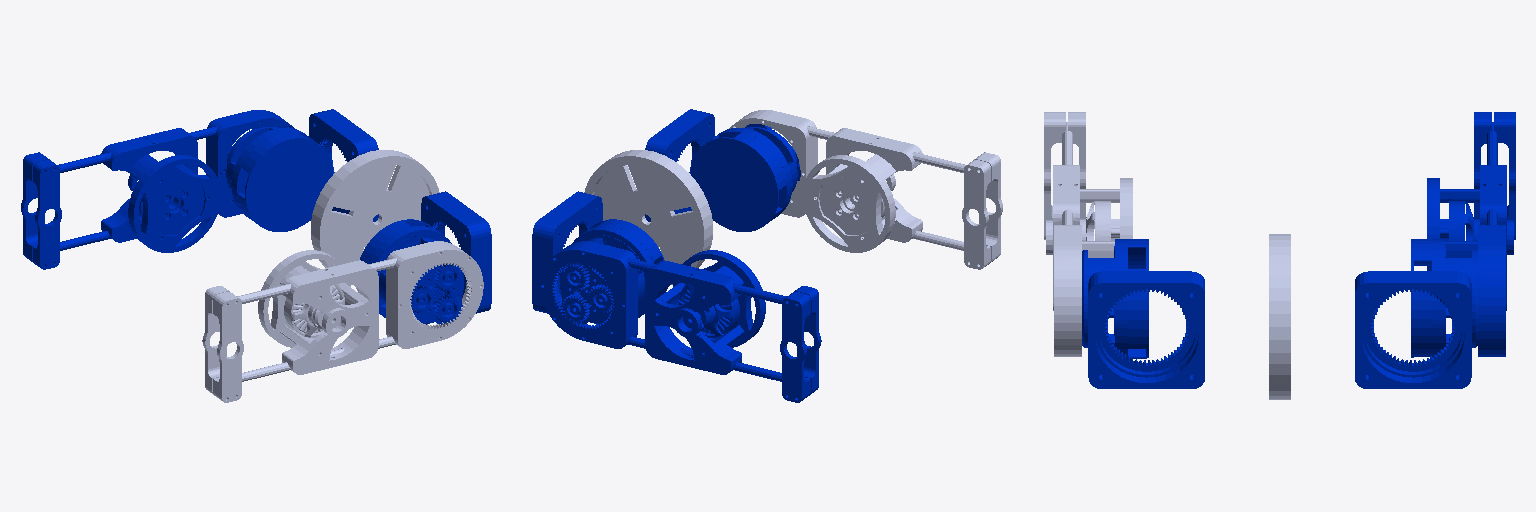
The robot description file, URDF, robot "Biped_CenterHip":
<?xml version="1.0" encoding="utf-8"?>
<!-- This URDF was automatically created by SolidWorks to URDF Exporter! Originally created by [author] ([email redacted]) 
     Commit Version: 1.6.0-4-g7f85cfe  Build Version: 1.6.7995.38578
     For more information, please see http://wiki.ros.org/sw_urdf_exporter -->
<robot
  name="Biped_CenterHip">
  <link
    name="Body">
    <inertial>
      <origin
        xyz="0.00875 -0.00011577 0.049281"
        rpy="0 0 0" />
      <mass
        value="0.5" />
      <inertia
        ixx="0.016664"
        ixy="-2.5813E-16"
        ixz="-2.5495E-05"
        iyy="0.01491"
        iyz="3.7322E-12"
        izz="0.025732" />
    </inertial>
    <visual>
      <origin
        xyz="0 0 0"
        rpy="0 0 0" />
      <geometry>
        <mesh
          filename="../meshes/Body.STL" />
      </geometry>
      <material
        name="">
        <color
          rgba="0.28627 0.66275 0.32941 1" />
      </material>
    </visual>
    <collision>
      <origin
        xyz="0 0 0"
        rpy="0 0 0" />
      <geometry>
        <mesh
          filename="../meshes/Body.STL" />
      </geometry>
    </collision>
  </link>
  <link
    name="L_Hip">
    <inertial>
      <origin
        xyz="-0.029749 0.019238 -1.7814E-08"
        rpy="0 0 0" />
      <mass
        value="0.24499" />
      <inertia
        ixx="0.00022957"
        ixy="-3.2972E-12"
        ixz="-2.2508E-10"
        iyy="0.00023971"
        iyz="-5.4613E-12"
        izz="0.00016193" />
    </inertial>
    <visual>
      <origin
        xyz="0 0 0"
        rpy="0 0 0" />
      <geometry>
        <mesh
          filename="../meshes/L_Hip.STL" />
      </geometry>
      <material
        name="">
        <color
          rgba="0.0078431 0.23922 0.82353 1" />
      </material>
    </visual>
    <collision>
      <origin
        xyz="0 0 0"
        rpy="0 0 0" />
      <geometry>
        <mesh
          filename="../meshes/L_Hip.STL" />
      </geometry>
    </collision>
  </link>
  <joint
    name="L_J1"
    type="revolute">
    <origin
      xyz="0.034433 0.1 0.05"
      rpy="0 0 0" />
    <parent
      link="Body" />
    <child
      link="L_Hip" />
    <axis
      xyz="1 0 0" />
    <limit
      lower="-0.35"
      upper="0.35"
      effort="2"
      velocity="0" />
  </joint>
  <link
    name="L_Thigh">
    <inertial>
      <origin
        xyz="-0.098727 -0.021408 5.2332E-07"
        rpy="0 0 0" />
      <mass
        value="0.24662" />
      <inertia
        ixx="0.00019357"
        ixy="-2.9018E-06"
        ixz="1.9838E-08"
        iyy="0.00032526"
        iyz="1.1756E-10"
        izz="0.00016215" />
    </inertial>
    <visual>
      <origin
        xyz="0 0 0"
        rpy="0 0 0" />
      <geometry>
        <mesh
          filename="../meshes/L_Thigh.STL" />
      </geometry>
      <material
        name="">
        <color
          rgba="0.0078431 0.23922 0.82353 1" />
      </material>
    </visual>
    <collision>
      <origin
        xyz="0 0 0"
        rpy="0 0 0" />
      <geometry>
        <mesh
          filename="../meshes/L_Thigh.STL" />
      </geometry>
    </collision>
  </link>
  <joint
    name="L_J2"
    type="revolute">
    <origin
      xyz="-0.045979703345944 0.07 0"
      rpy="0 0 0" />
    <parent
      link="L_Hip" />
    <child
      link="L_Thigh" />
    <axis
      xyz="0 -1 0" />
    <limit
      lower="-2.8"
      upper="2.8"
      effort="2"
      velocity="0" />
  </joint>
  <link
    name="L_Shin">
    <inertial>
      <origin
        xyz="-0.073542 -0.0094277 1.714E-05"
        rpy="0 0 0" />
      <mass
        value="0.066367" />
      <inertia
        ixx="1.5509E-05"
        ixy="1.1864E-08"
        ixz="-6.4688E-11"
        iyy="2.6897E-05"
        iyz="-8.5674E-09"
        izz="3.2671E-05" />
    </inertial>
    <visual>
      <origin
        xyz="0 0 0"
        rpy="0 0 0" />
      <geometry>
        <mesh
          filename="../meshes/L_Shin.STL" />
      </geometry>
      <material
        name="">
        <color
          rgba="0.79216 0.81961 0.93333 1" />
      </material>
    </visual>
    <collision>
      <origin
        xyz="0 0 0"
        rpy="0 0 0" />
      <geometry>
        <mesh
          filename="../meshes/L_Shin.STL" />
      </geometry>
    </collision>
  </link>
  <joint
    name="L_J3"
    type="revolute">
    <origin
      xyz="-0.218 0 0"
      rpy="0 0 0" />
    <parent
      link="L_Thigh" />
    <child
      link="L_Shin" />
    <axis
      xyz="0 1 0" />
    <limit
      lower="-2.8"
      upper="2.8"
      effort="2"
      velocity="0" />
  </joint>
  <link
    name="R_Hip">
    <inertial>
      <origin
        xyz="-0.029749 -0.019238 1.7814E-08"
        rpy="0 0 0" />
      <mass
        value="0.24499" />
      <inertia
        ixx="0.00022957"
        ixy="3.2972E-12"
        ixz="2.2508E-10"
        iyy="0.00023971"
        iyz="-5.4613E-12"
        izz="0.00016193" />
    </inertial>
    <visual>
      <origin
        xyz="0 0 0"
        rpy="0 0 0" />
      <geometry>
        <mesh
          filename="../meshes/R_Hip.STL" />
      </geometry>
      <material
        name="">
        <color
          rgba="0.0078431 0.23922 0.82353 1" />
      </material>
    </visual>
    <collision>
      <origin
        xyz="0 0 0"
        rpy="0 0 0" />
      <geometry>
        <mesh
          filename="../meshes/R_Hip.STL" />
      </geometry>
    </collision>
  </link>
  <joint
    name="R_J1"
    type="revolute">
    <origin
      xyz="0.034433 -0.1 0.05"
      rpy="0 0 0" />
    <parent
      link="Body" />
    <child
      link="R_Hip" />
    <axis
      xyz="1 0 0" />
    <limit
      lower="-0.35"
      upper="0.35"
      effort="2"
      velocity="0" />
  </joint>
  <link
    name="R_Thigh">
    <inertial>
      <origin
        xyz="-0.098727 0.021408 -5.2332E-07"
        rpy="0 0 0" />
      <mass
        value="0.24662" />
      <inertia
        ixx="0.00019357"
        ixy="2.9018E-06"
        ixz="-1.9838E-08"
        iyy="0.00032526"
        iyz="1.1756E-10"
        izz="0.00016215" />
    </inertial>
    <visual>
      <origin
        xyz="0 0 0"
        rpy="0 0 0" />
      <geometry>
        <mesh
          filename="../meshes/R_Thigh.STL" />
      </geometry>
      <material
        name="">
        <color
          rgba="0.79216 0.81961 0.93333 1" />
      </material>
    </visual>
    <collision>
      <origin
        xyz="0 0 0"
        rpy="0 0 0" />
      <geometry>
        <mesh
          filename="../meshes/R_Thigh.STL" />
      </geometry>
    </collision>
  </link>
  <joint
    name="R_J2"
    type="revolute">
    <origin
      xyz="-0.045979703345944 -0.07 0"
      rpy="0 0 0" />
    <parent
      link="R_Hip" />
    <child
      link="R_Thigh" />
    <axis
      xyz="0 1 0" />
    <limit
      lower="-2.8"
      upper="2.8"
      effort="2"
      velocity="0" />
  </joint>
  <link
    name="R_Shin">
    <inertial>
      <origin
        xyz="-0.073542 0.0094277 -1.714E-05"
        rpy="0 0 0" />
      <mass
        value="0.066367" />
      <inertia
        ixx="1.5509E-05"
        ixy="-1.1864E-08"
        ixz="6.4688E-11"
        iyy="2.6897E-05"
        iyz="-8.5674E-09"
        izz="3.2671E-05" />
    </inertial>
    <visual>
      <origin
        xyz="0 0 0"
        rpy="0 0 0" />
      <geometry>
        <mesh
          filename="../meshes/R_Shin.STL" />
      </geometry>
      <material
        name="">
        <color
          rgba="0.79216 0.81961 0.93333 1" />
      </material>
    </visual>
    <collision>
      <origin
        xyz="0 0 0"
        rpy="0 0 0" />
      <geometry>
        <mesh
          filename="../meshes/R_Shin.STL" />
      </geometry>
    </collision>
  </link>
  <joint
    name="R_J3"
    type="revolute">
    <origin
      xyz="-0.218 0 0"
      rpy="0 0 0" />
    <parent
      link="R_Thigh" />
    <child
      link="R_Shin" />
    <axis
      xyz="0 -1 0" />
    <limit
      lower="-2.8"
      upper="2.8"
      effort="2"
      velocity="0" />
  </joint>
  <link
    name="ReactionWheelX">
    <inertial>
      <origin
        xyz="0 2.7756E-17 1.3878E-17"
        rpy="0 0 0" />
      <mass
        value="0.097845" />
      <inertia
        ixx="0.00023479"
        ixy="-3.0975E-21"
        ixz="3.9219E-23"
        iyy="0.0001185"
        iyz="1.8521E-20"
        izz="0.0001185" />
    </inertial>
    <visual>
      <origin
        xyz="0 0 0"
        rpy="0 0 0" />
      <geometry>
        <mesh
          filename="../meshes/ReactionWheelX.STL" />
      </geometry>
      <material
        name="">
        <color
          rgba="0.79216 0.81961 0.93333 1" />
      </material>
    </visual>
    <collision>
      <origin
        xyz="0 0 0"
        rpy="0 0 0" />
      <geometry>
        <mesh
          filename="../meshes/ReactionWheelX.STL" />
      </geometry>
    </collision>
  </link>
  <joint
    name="WheelX"
    type="continuous">
    <origin
      xyz="-0.0699999999999999 0 0.05"
      rpy="0 0 0" />
    <parent
      link="Body" />
    <child
      link="ReactionWheelX" />
    <axis
      xyz="1 0 0" />
  </joint>
  <link
    name="ReactionWheelY">
    <inertial>
      <origin
        xyz="0 2.7756E-17 0"
        rpy="0 0 0" />
      <mass
        value="0.097845" />
      <inertia
        ixx="0.0001185"
        ixy="-4.9598E-21"
        ixz="-3.4328E-20"
        iyy="0.00023479"
        iyz="1.5862E-21"
        izz="0.0001185" />
    </inertial>
    <visual>
      <origin
        xyz="0 0 0"
        rpy="0 0 0" />
      <geometry>
        <mesh
          filename="../meshes/ReactionWheelY.STL" />
      </geometry>
      <material
        name="">
        <color
          rgba="0.79216 0.81961 0.93333 1" />
      </material>
    </visual>
    <collision>
      <origin
        xyz="0 0 0"
        rpy="0 0 0" />
      <geometry>
        <mesh
          filename="../meshes/ReactionWheelY.STL" />
      </geometry>
    </collision>
  </link>
  <joint
    name="WheelY"
    type="continuous">
    <origin
      xyz="0.020147207668468 0 0.05"
      rpy="0 0 0" />
    <parent
      link="Body" />
    <child
      link="ReactionWheelY" />
    <axis
      xyz="0 1 0" />
  </joint>
</robot>

--- Render facts (derived) ---
Views: 3 orthographic renders of the robot side by side, from view 1: azimuth 30°, elevation 25°; view 2: azimuth 150°, elevation 25°; view 3: azimuth 270°, elevation 25°.
Robot: Biped_CenterHip — 9 links, 8 joints (6 revolute, 2 continuous); root link Body; default pose: every joint at zero.
Visible links, largest first — view 1: R_Thigh, L_Thigh, L_Hip, ReactionWheelY, R_Hip; view 2: L_Thigh, R_Thigh, R_Hip, ReactionWheelY, L_Hip; view 3: R_Hip, L_Hip, L_Thigh, R_Thigh, ReactionWheelY.
Link boxes in pixels (x1,y1,x2,y2): R_Thigh: [202, 241, 483, 402]; L_Thigh: [21, 110, 294, 269]; L_Hip: [223, 109, 378, 231]; ReactionWheelY: [311, 150, 439, 284]; R_Hip: [360, 191, 491, 324]; L_Thigh: [540, 241, 821, 402]; R_Thigh: [729, 110, 1002, 269]; R_Hip: [645, 109, 800, 231]; ReactionWheelY: [584, 150, 712, 284]; L_Hip: [532, 191, 663, 324]; R_Hip: [1082, 239, 1204, 388]; L_Hip: [1355, 239, 1477, 388]; L_Thigh: [1427, 112, 1515, 356]; R_Thigh: [1044, 112, 1132, 356]; ReactionWheelY: [1269, 234, 1290, 399].
Bounding box of the posed robot: 0.3247 × 0.354 × 0.1249 m (x, y, z).
Meshes: 9 distinct files referenced, 5 mesh visuals loaded (5 binary STL); not drawn: 4 (reference not matched to a file when rendering).
